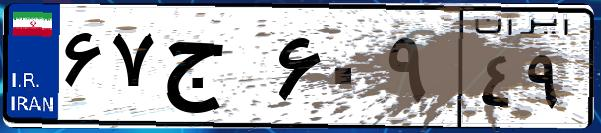0: (330, 28, 385, 110)
4: (475, 38, 525, 113)
6: (270, 28, 330, 110), (57, 26, 110, 100)
7: (110, 28, 158, 98)
9: (385, 28, 445, 110), (525, 38, 570, 115)
ج: (158, 20, 270, 120)
